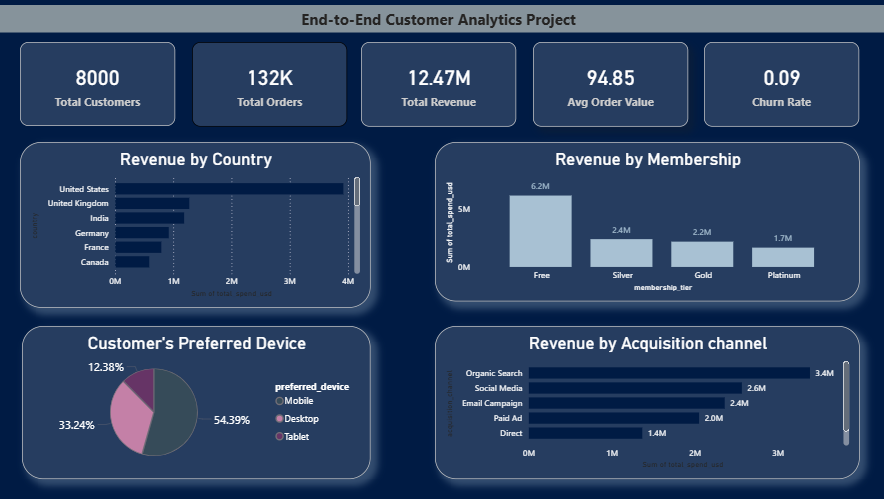

The page's visual inventory and layout, read from the dashboard file:
{"tool":"powerbi","page":{"name":"Page 1","canvas":[1280,720],"ordinal":0},"visuals":[{"type":"card","fields":{"Values":["customers.Total Orders"]},"box":[290.9,67.7,220.3,119.5],"z":0},{"type":"card","fields":{"Values":["customers.Total Revenue"]},"box":[529.9,67.7,220.3,119.5],"z":1000},{"type":"card","fields":{"Values":["customers.Avg Order Value"]},"box":[773.3,67.7,220.3,119.5],"z":2000},{"type":"card","fields":{"Values":["customers.Churn Rate"]},"box":[1016.6,67.7,220.3,119.5],"z":3000},{"type":"textbox","box":[0,15.8,1280.2,38.9],"z":4000},{"type":"clusteredBarChart","title":"Revenue by Country","fields":{"Category":["customers.country"],"Y":["Sum(customers.total_spend_usd)"]},"box":[46.1,210.2,496.8,234.7],"z":5000},{"type":"clusteredColumnChart","title":"Revenue by Membership ","fields":{"Category":["customers.membership_tier"],"Y":["Sum(customers.total_spend_usd)"]},"box":[635,210.2,601.9,226.1],"z":6000},{"type":"clusteredBarChart","title":"Revenue by Acquisition channel","fields":{"Category":["customers.acquisition_channel"],"Y":["Sum(customers.total_spend_usd)"]},"box":[635,470.9,601.9,217.4],"z":7000},{"type":"pieChart","title":"Customer''s Preferred Device","fields":{"Category":["customers.preferred_device"],"Y":["customers.Total Customers"]},"box":[49,470.9,493.9,217.4],"z":8000},{"type":"card","fields":{"Values":["customers.Total Customers"]},"box":[46.8,68,219.7,119.1],"z":9000}]}

Visuals, with their boxes in screenshot pixels (x1, y1, x2, y2), scaled from the page's 1280x720 canvas onto the 884x499 screenshot:
card - customers.Total Orders: rect(201, 47, 353, 130)
card - customers.Total Revenue: rect(366, 47, 518, 130)
card - customers.Avg Order Value: rect(534, 47, 686, 130)
card - customers.Churn Rate: rect(702, 47, 854, 130)
textbox: rect(0, 11, 883, 38)
"Revenue by Country" clusteredBarChart: rect(32, 146, 375, 308)
"Revenue by Membership " clusteredColumnChart: rect(439, 146, 854, 302)
"Revenue by Acquisition channel" clusteredBarChart: rect(439, 326, 854, 477)
"Customer''s Preferred Device" pieChart: rect(34, 326, 375, 477)
card - customers.Total Customers: rect(32, 47, 184, 130)
